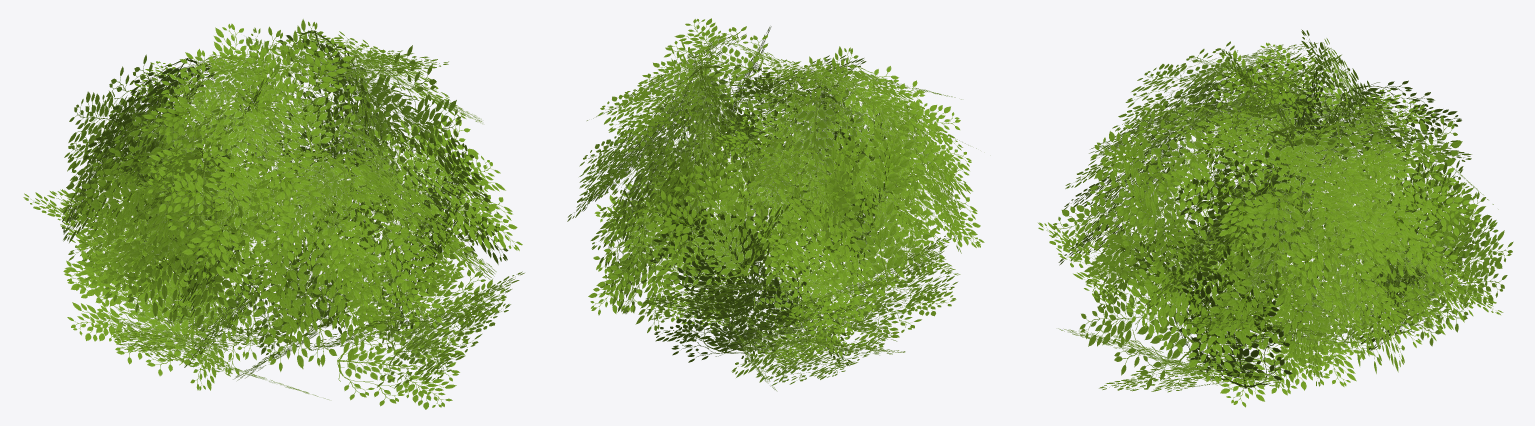
File: cliff_shurb.obj
3 renders of one model, left to right at view 1: azimuth 30°, elevation 25°; view 2: azimuth 150°, elevation 25°; view 3: azimuth 270°, elevation 25°, orthographic. The views are drawn at different scales.
Visible parts, largest first — view 1: leaves_gbushy_0; view 2: leaves_gbushy_0; view 3: leaves_gbushy_0.
Part boxes in pixels (x1,y1,x2,y2): leaves_gbushy_0: (23, 19, 524, 409); leaves_gbushy_0: (567, 18, 984, 391); leaves_gbushy_0: (1038, 29, 1513, 407).
Size of the model in its own units: 1.53 by 1.26 by 1.68.
Materials: 1 (1 with a texture image).
